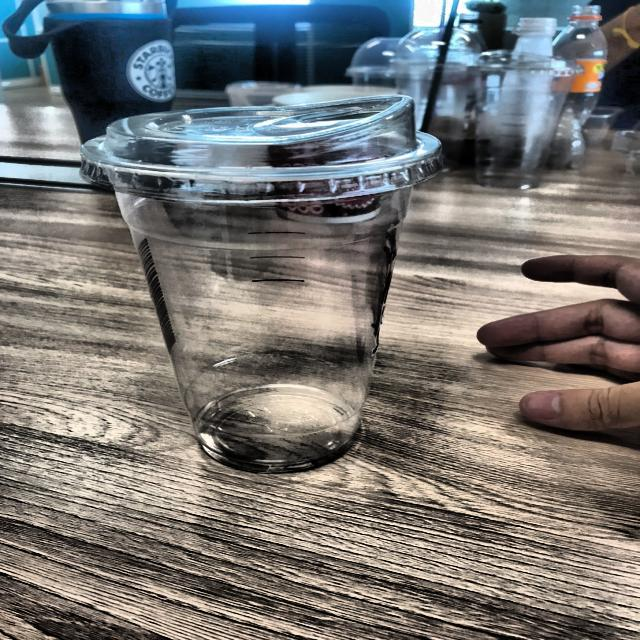plastic cup: (68, 84, 471, 504)
